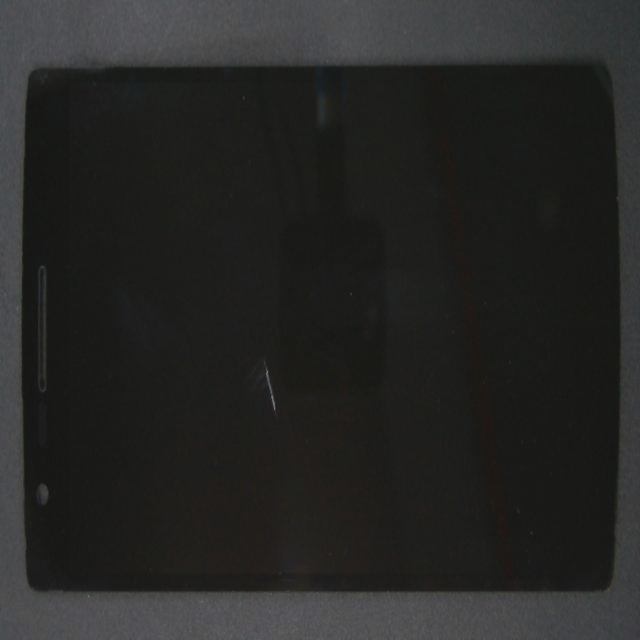scratch: (172, 249, 428, 565)
